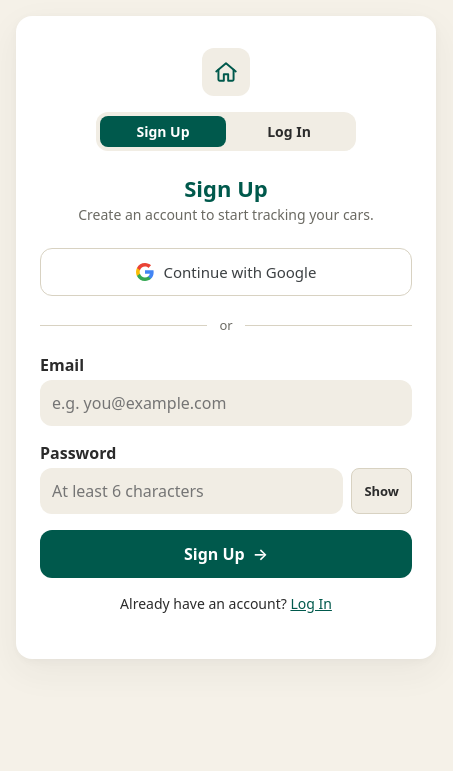
Test: AuthPage — Sign Up › shows a confirmation-email message when signup requires email confirmation
Type "new@example.com" into the field labelled "Email".
click(226, 403); type("new@example.com")  # box x1=40 y1=380 x2=412 y2=426
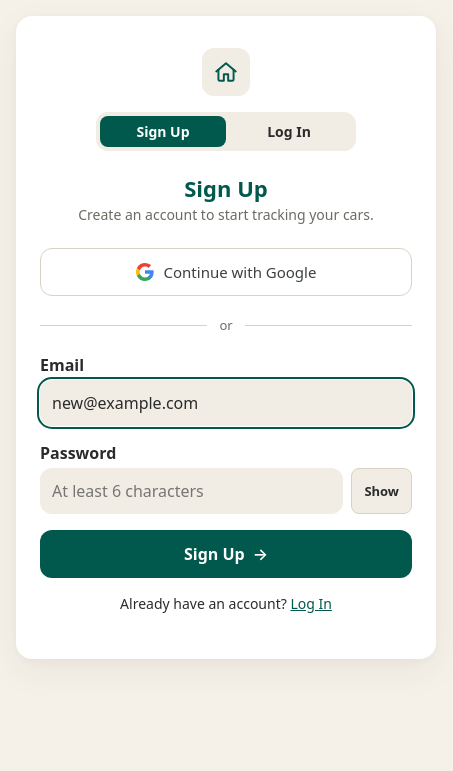
Type "a-strong-password" into the password field labelled "Password".
click(192, 491); type("a-strong-password")  # box x1=40 y1=468 x2=343 y2=514
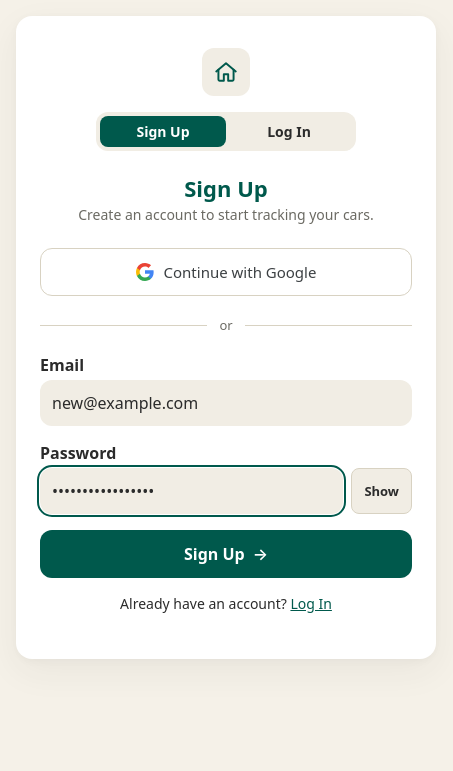
Click the button "Sign Up →".
click(226, 554)  # box x1=40 y1=530 x2=412 y2=578
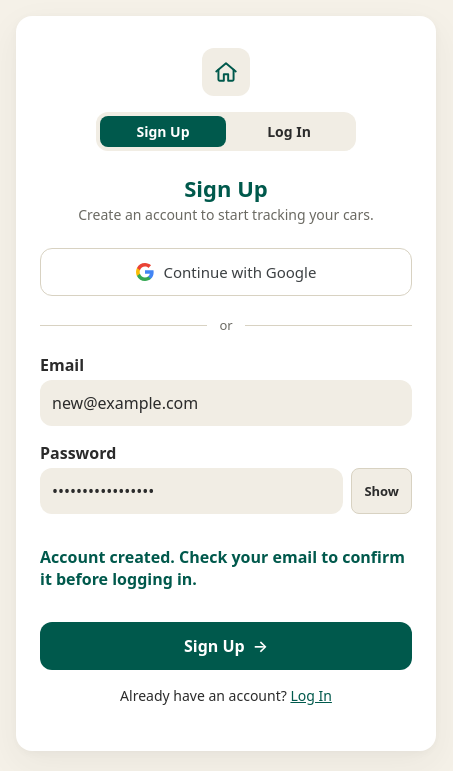
expect the message shows "Check your email to confirm it": met, box x1=40 y1=546 x2=405 y2=590
